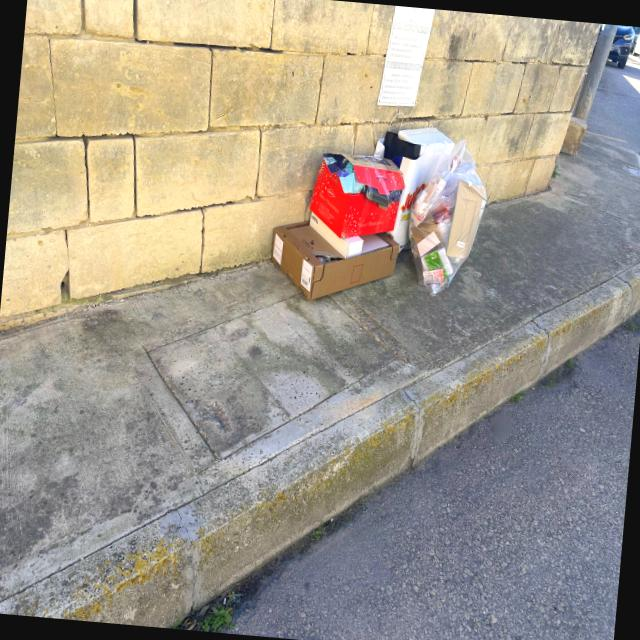grey_bag: (402, 136, 496, 300)
other_waste: (262, 147, 408, 312), (374, 116, 452, 170)
